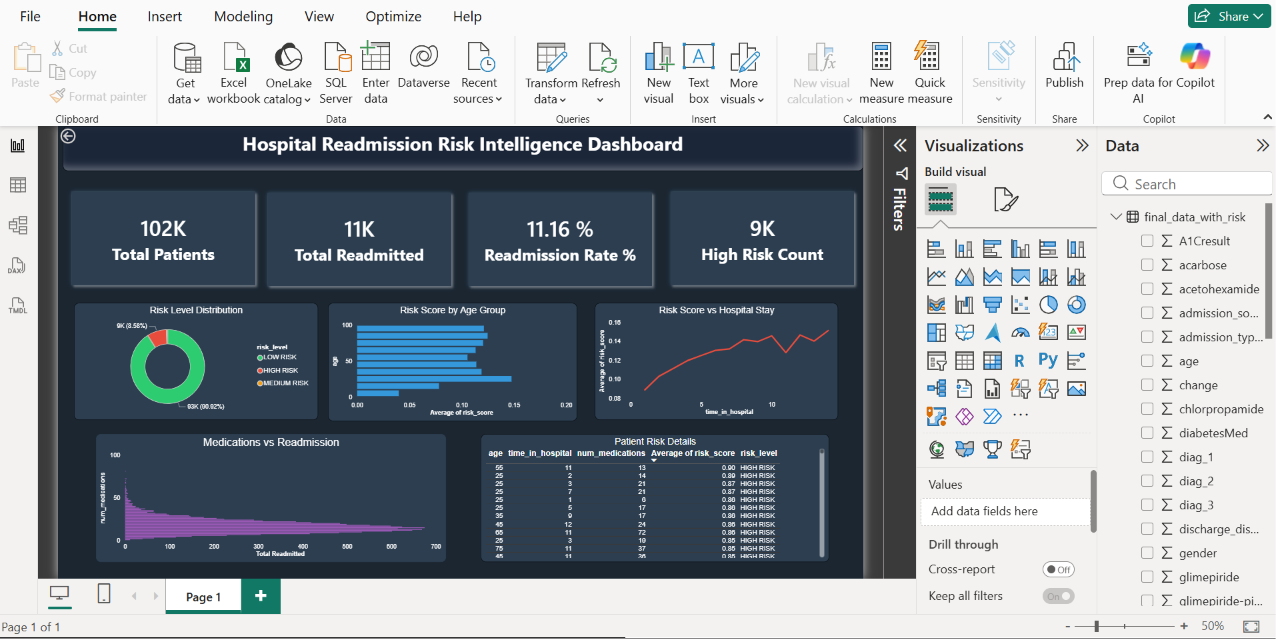

The page's visual inventory and layout, read from the dashboard file:
{"tool":"powerbi","page":{"name":"Page 1","canvas":[1600,900],"ordinal":0},"visuals":[{"type":"textbox","box":[9.9,0,1591,89.5],"z":0},{"type":"cardVisual","fields":{"Data":["final_data_with_risk.Total Patients"]},"box":[9.9,113.3,399.6,220.7],"z":1000},{"type":"cardVisual","fields":{"Data":["final_data_with_risk.Total Readmitted"]},"box":[399.6,115.3,399.6,220.7],"z":2000},{"type":"cardVisual","fields":{"Data":["final_data_with_risk.Readmission Rate %"]},"box":[799.3,115.3,399.6,220.7],"z":3000},{"type":"cardVisual","fields":{"Data":["final_data_with_risk.High Risk Count"]},"box":[1200.9,113.3,399.6,220.7],"z":4000},{"type":"donutChart","title":"Risk Level Distribution","fields":{"Y":["final_data_with_risk.Total Patients"],"Category":["final_data_with_risk.risk_level"]},"box":[31.8,351.9,485.1,232.6],"z":5000},{"type":"clusteredBarChart","title":"Risk Score by Age Group","fields":{"Category":["final_data_with_risk.age"],"Y":["Avg(final_data_with_risk.risk_score)"]},"box":[536.8,351.9,495.1,234.6],"z":6000},{"type":"lineChart","title":"Risk Score vs Hospital Stay","fields":{"Category":["final_data_with_risk.time_in_hospital"],"Y":["Avg(final_data_with_risk.risk_score)"]},"box":[1067.7,351.9,483.1,232.6],"z":7000},{"type":"barChart","title":"Medications vs Readmission","fields":{"Category":["final_data_with_risk.num_medications"],"Y":["final_data_with_risk.Total Readmitted"]},"box":[75.6,612.4,695.9,254.5],"z":8000},{"type":"tableEx","title":"Patient Risk Details","fields":{"Values":["final_data_with_risk.age","final_data_with_risk.time_in_hospital","final_data_with_risk.num_medications","Avg(final_data_with_risk.risk_score)","final_data_with_risk.risk_level"]},"box":[841,612.4,691.9,254.5],"z":9000},{"type":"actionButton","box":[0,0,100,40],"z":10000}]}

Visuals, with their boxes on the page's 1600x900 design canvas (x1, y1, x2, y2). These are canvas units, not pixel positions in the 1276x639 screenshot, which may show the page scaled, cropped or inside an application window:
textbox: (left=10, top=0, right=1601, bottom=90)
cardVisual - final_data_with_risk.Total Patients: (left=10, top=113, right=410, bottom=334)
cardVisual - final_data_with_risk.Total Readmitted: (left=400, top=115, right=799, bottom=336)
cardVisual - final_data_with_risk.Readmission Rate %: (left=799, top=115, right=1199, bottom=336)
cardVisual - final_data_with_risk.High Risk Count: (left=1201, top=113, right=1600, bottom=334)
"Risk Level Distribution" donutChart: (left=32, top=352, right=517, bottom=584)
"Risk Score by Age Group" clusteredBarChart: (left=537, top=352, right=1032, bottom=586)
"Risk Score vs Hospital Stay" lineChart: (left=1068, top=352, right=1551, bottom=584)
"Medications vs Readmission" barChart: (left=76, top=612, right=772, bottom=867)
"Patient Risk Details" tableEx: (left=841, top=612, right=1533, bottom=867)
actionButton: (left=0, top=0, right=100, bottom=40)
